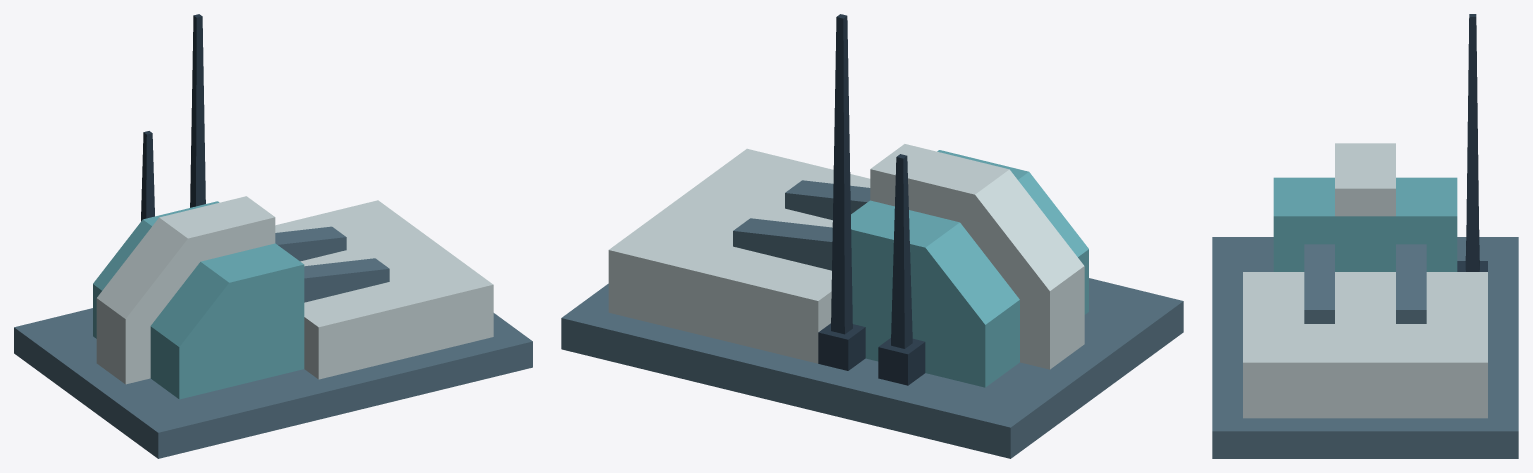
Rendered from machine_wireless.glb.
3 renders of one model, left to right at view 1: azimuth 30°, elevation 25°; view 2: azimuth 150°, elevation 25°; view 3: azimuth 270°, elevation 25°, orthographic. The views are drawn at different scales.
Visible parts, largest first — view 1: machine_wireless; view 2: machine_wireless; view 3: machine_wireless.
Part boxes in pixels (left/top/right/bottom): machine_wireless: left=14, top=14, right=532, bottom=458; machine_wireless: left=561, top=14, right=1183, bottom=458; machine_wireless: left=1212, top=14, right=1518, bottom=458.
Size of the model in its own units: 0.75 by 0.6 by 0.5.
